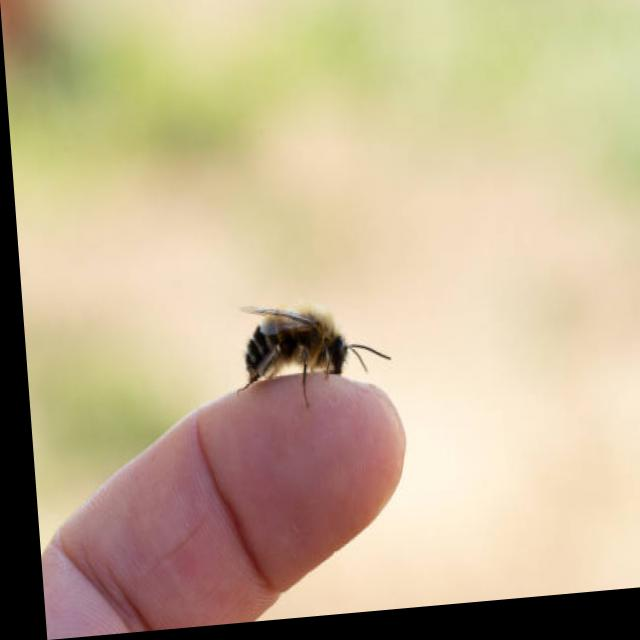Vespa Crabro: (215, 279, 408, 445)
